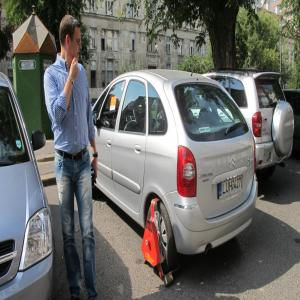Vehicle-registration-plate: (217, 172, 241, 204)
